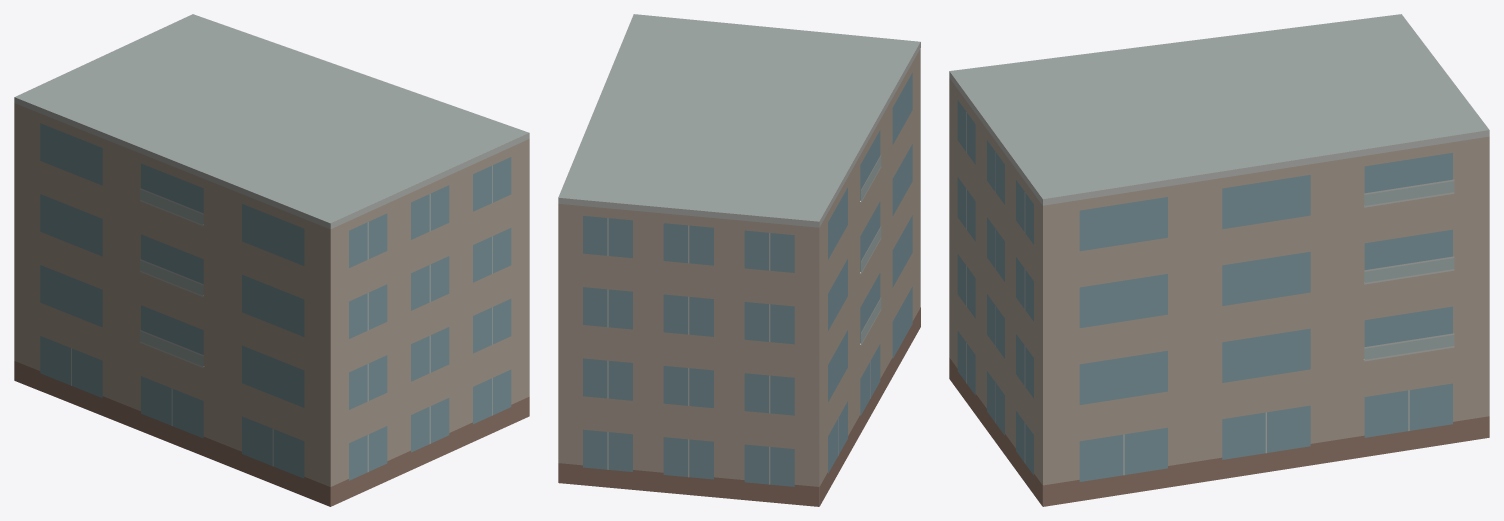
Rendered from survey-upis-32620986.glb.
The picture shows the model from 3 angles, left to right: view 1: azimuth 30°, elevation 25°; view 2: azimuth 150°, elevation 25°; view 3: azimuth 270°, elevation 25°; orthographic projection. The views are drawn at different scales.
Parts seen in each view (by area): view 1: survey-upis-32620986.tmp; view 2: survey-upis-32620986.tmp; view 3: survey-upis-32620986.tmp.
Boxes of the visible parts, x1,y1,x2,y2 form: survey-upis-32620986.tmp: (14,14,529,506); survey-upis-32620986.tmp: (558,14,920,506); survey-upis-32620986.tmp: (949,14,1489,506).
Bounding box in the file's own units: 14.99 × 11.6 × 18.47.
